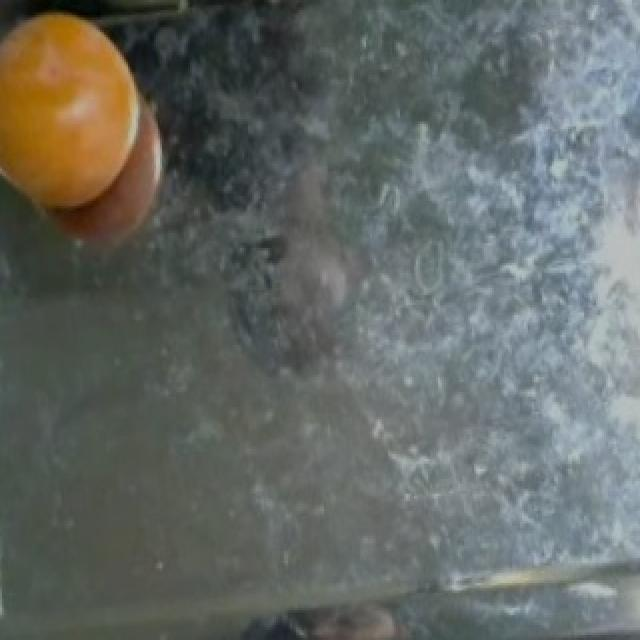Fruit: (0, 0, 166, 238), (242, 593, 446, 640)
